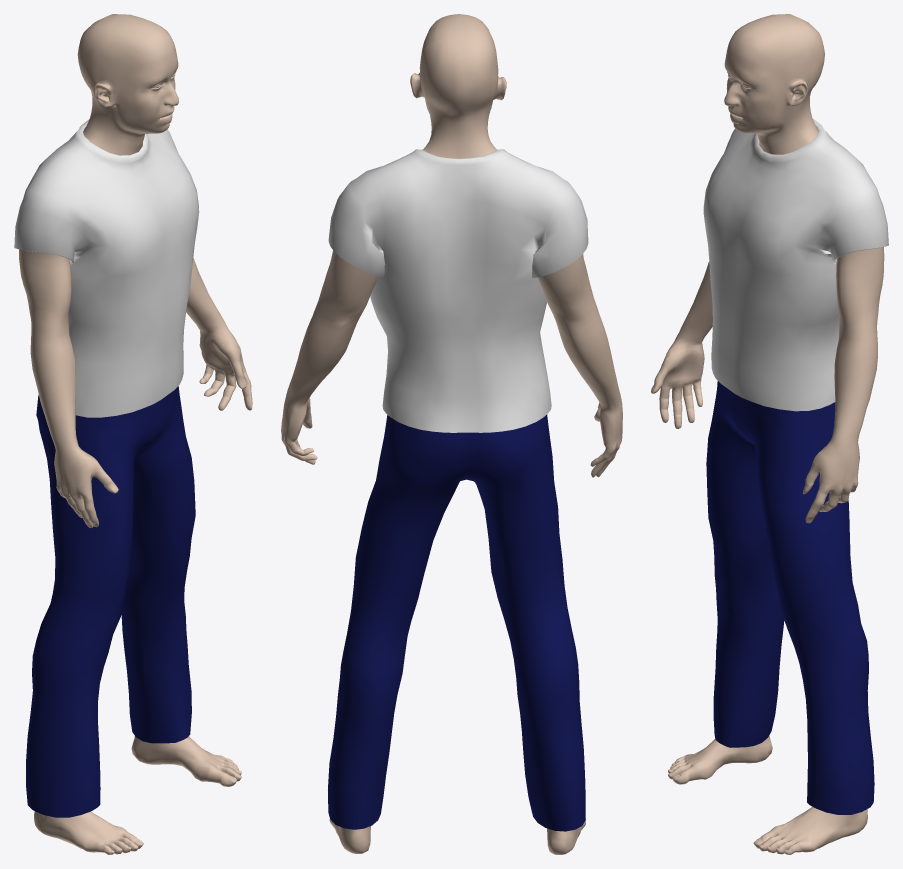
The model's file is dummy 1111.gltf.
3 views of the same model, side by side, from view 1: azimuth 30°, elevation 25°; view 2: azimuth 150°, elevation 25°; view 3: azimuth 270°, elevation 25° (orthographic). The views are drawn at different scales.
Parts seen in each view (by area): view 1: male_casualsuit04Mesh.001, male_casualsuit04Mesh, dummy dressed.001; view 2: male_casualsuit04Mesh.001, male_casualsuit04Mesh, dummy dressed.001; view 3: male_casualsuit04Mesh.001, male_casualsuit04Mesh, dummy dressed.001.
Boxes of the visible parts, box(x1,y1,x2,y2) form: male_casualsuit04Mesh.001: box(26, 386, 195, 817); male_casualsuit04Mesh: box(14, 119, 199, 417); dummy dressed.001: box(19, 14, 252, 854); male_casualsuit04Mesh.001: box(328, 414, 585, 831); male_casualsuit04Mesh: box(328, 149, 588, 432); dummy dressed.001: box(281, 14, 622, 854); male_casualsuit04Mesh.001: box(706, 381, 874, 814); male_casualsuit04Mesh: box(703, 119, 888, 411); dummy dressed.001: box(651, 14, 884, 854).
Size of the model in its own units: 0.6117 by 1.76 by 0.484.
